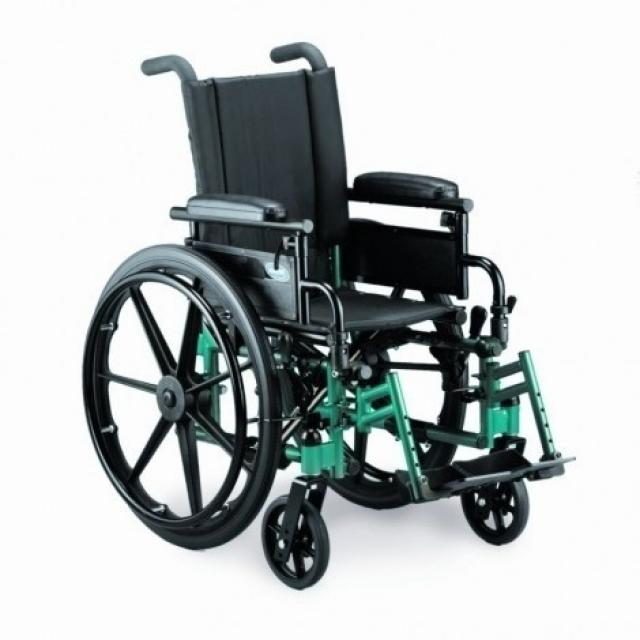wheelchair: (61, 33, 576, 590)
